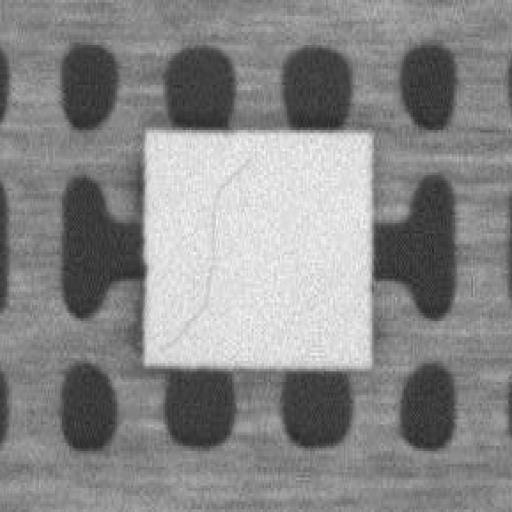DIE_CRACK: (158, 154, 250, 353)
